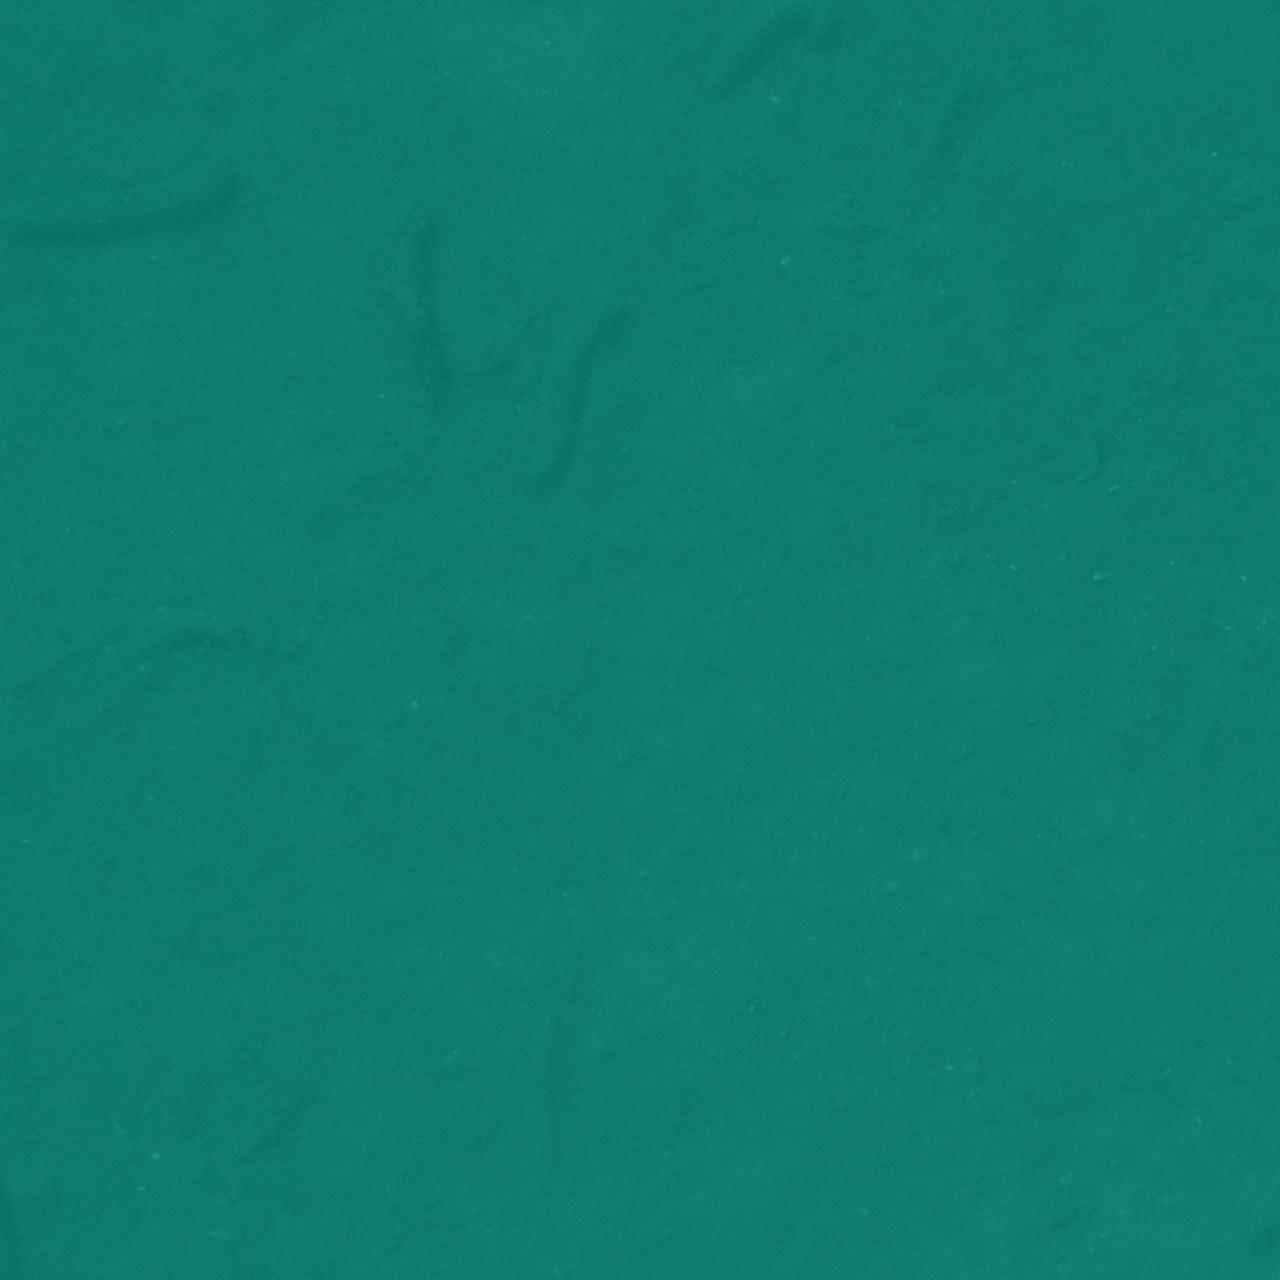Holothuria tubulosa: (497, 284, 647, 522), (0, 149, 259, 267), (362, 184, 470, 441), (387, 0, 622, 93), (681, 0, 870, 113), (574, 0, 833, 79), (1016, 1192, 1224, 1280), (0, 0, 82, 195), (1141, 1099, 1280, 1210), (0, 0, 196, 70), (0, 1119, 77, 1280), (1189, 154, 1280, 288), (472, 0, 745, 42), (0, 0, 113, 102), (1182, 1170, 1280, 1280), (0, 0, 142, 74), (624, 0, 736, 91), (1203, 0, 1280, 130), (0, 1175, 87, 1280), (1133, 0, 1280, 62), (1182, 815, 1280, 903), (0, 1203, 105, 1280), (1167, 0, 1280, 52), (0, 0, 54, 105), (0, 621, 89, 683), (1191, 1239, 1280, 1280)
